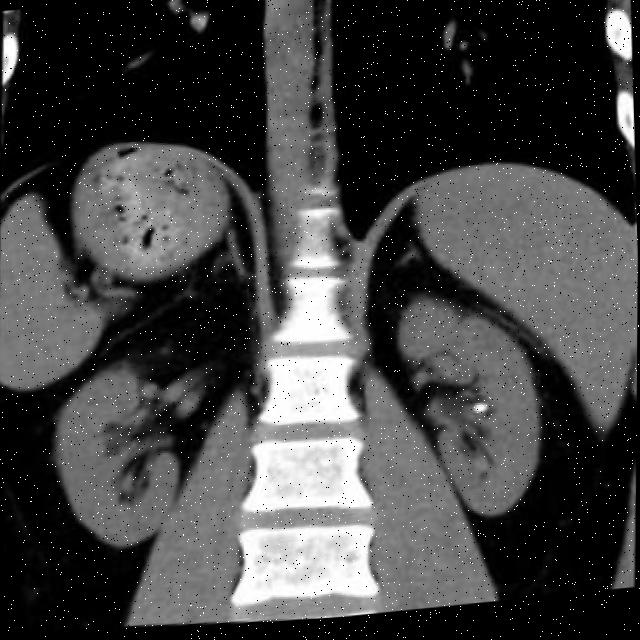Tas_Var: (474, 406, 489, 425)
